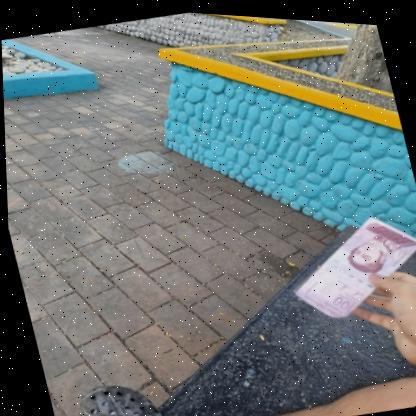vef_front: (276, 196, 416, 325)
